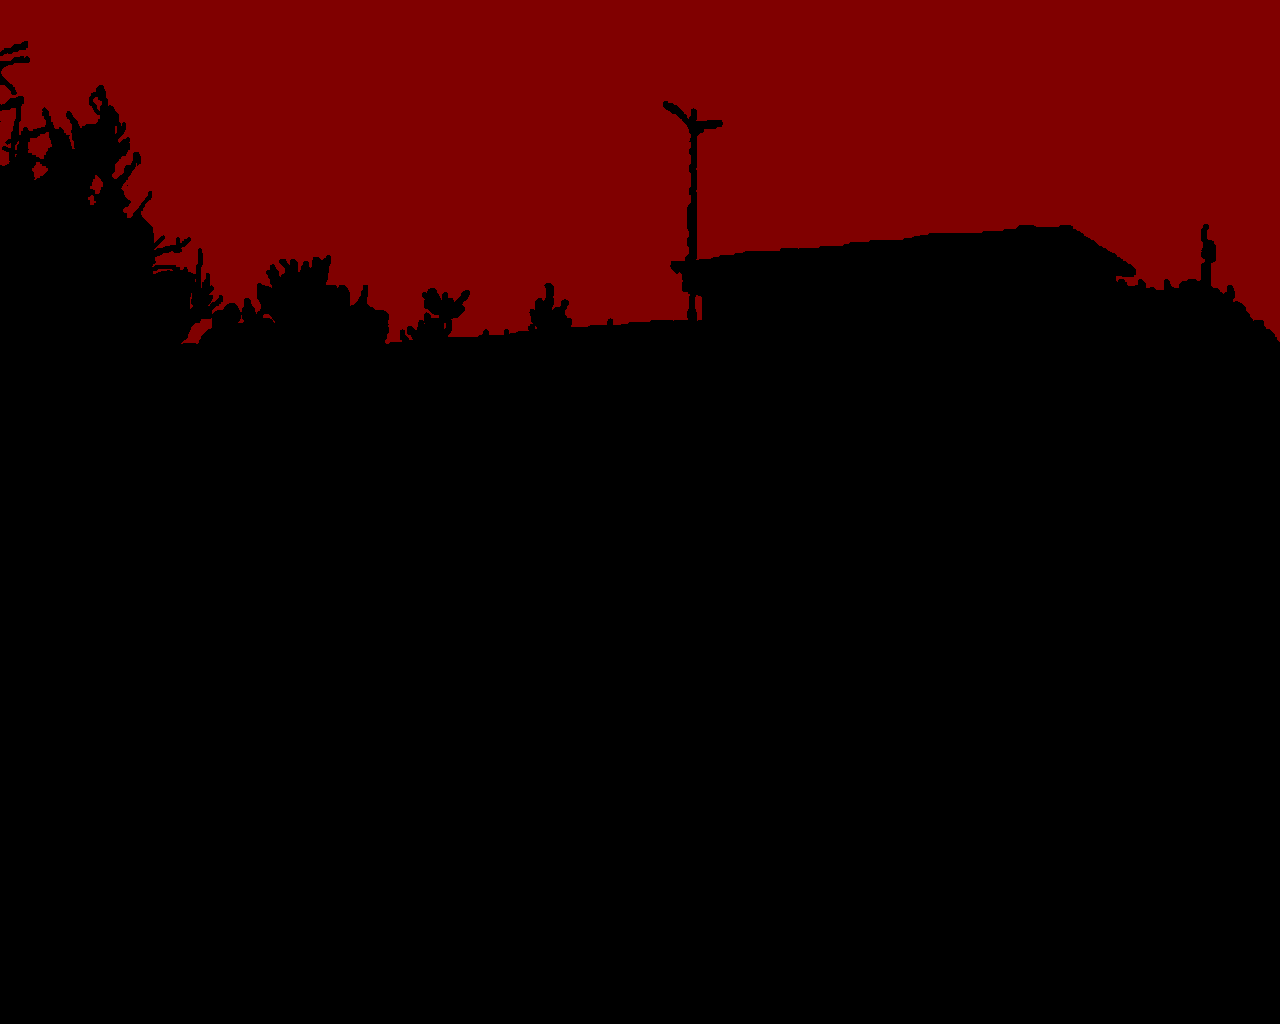Sky: (1, 1, 1279, 344)
